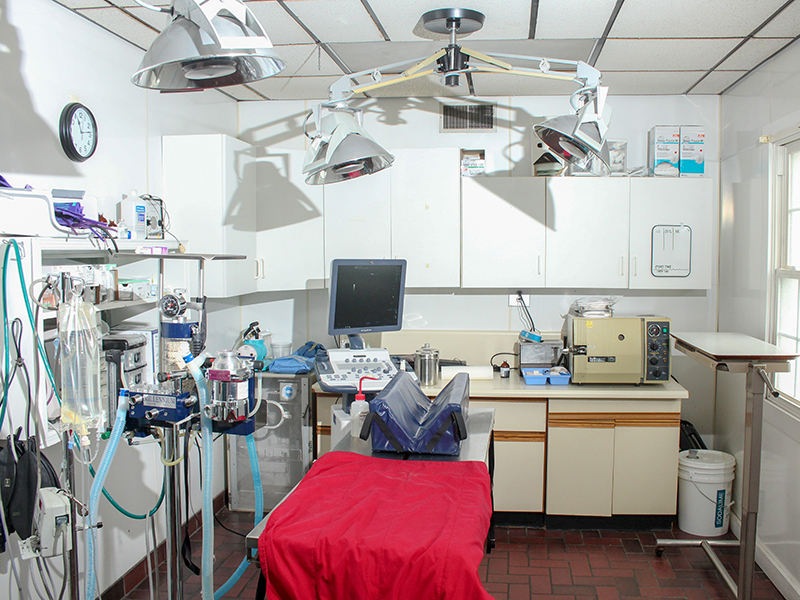bedside_monitor: (329, 259, 407, 336)
breathing_tube: (184, 363, 222, 598)
cabinet: (235, 106, 711, 289)
counter: (311, 356, 691, 518)
countertop: (329, 352, 698, 405)
handle: (262, 258, 266, 281), (257, 258, 261, 281), (634, 256, 638, 279), (621, 256, 625, 279), (537, 254, 541, 277)
operating_bed: (243, 364, 498, 600)
overbed_table: (664, 328, 795, 600)
surgical_light: (131, 1, 286, 94), (531, 113, 612, 183), (304, 129, 397, 185)
